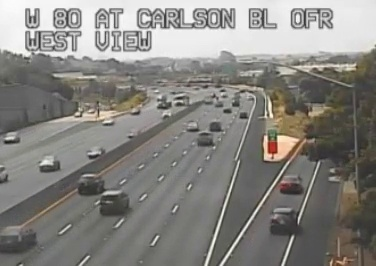car: (1, 226, 36, 251), (100, 190, 128, 215), (270, 208, 296, 233), (78, 174, 103, 193), (280, 176, 301, 194), (197, 132, 212, 146)
